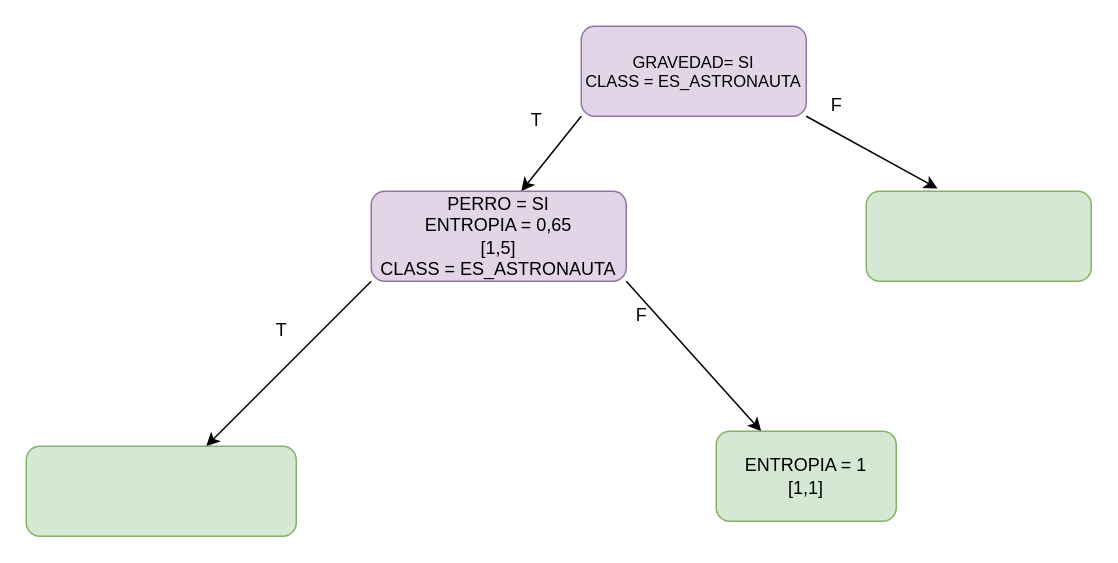
Some shapes in this 1118 by 563 pixel diagram are drawn without their labels. Each missing label, with the centre of its shape:
ENTROPIA = 0 [0,4] CLASS = ES_ATRONAUTA: pixel 160 490
ENTROPIA = 0 [4, 0] CLASS =NO ASTRONAUTA: pixel 978 235
